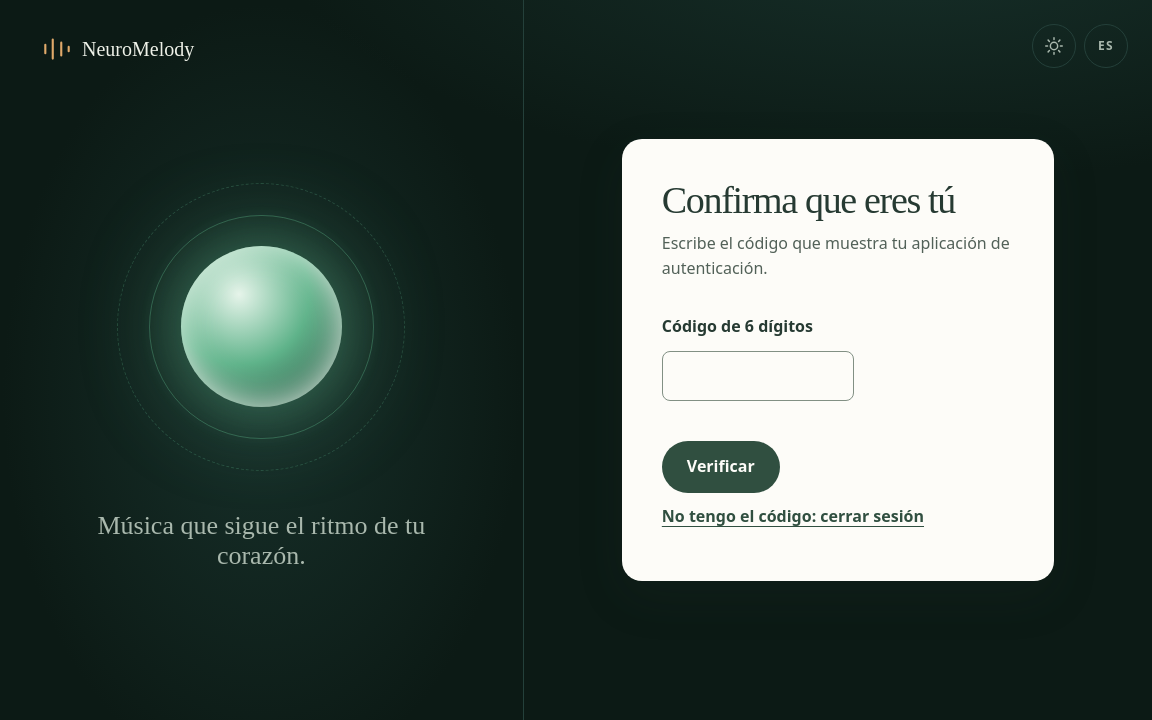
sign-in screens › asks for the code when a sign-in lands straight in the app, and lets the person sign out instead
The width and height of the screenshot is (1152, 720).
Check: the heading "Confirma que eres tú" is shown, box [662, 179, 955, 221]
Step 1. Click the button "No tengo el código: cerrar sesión" → (793, 517), box [662, 493, 924, 541]
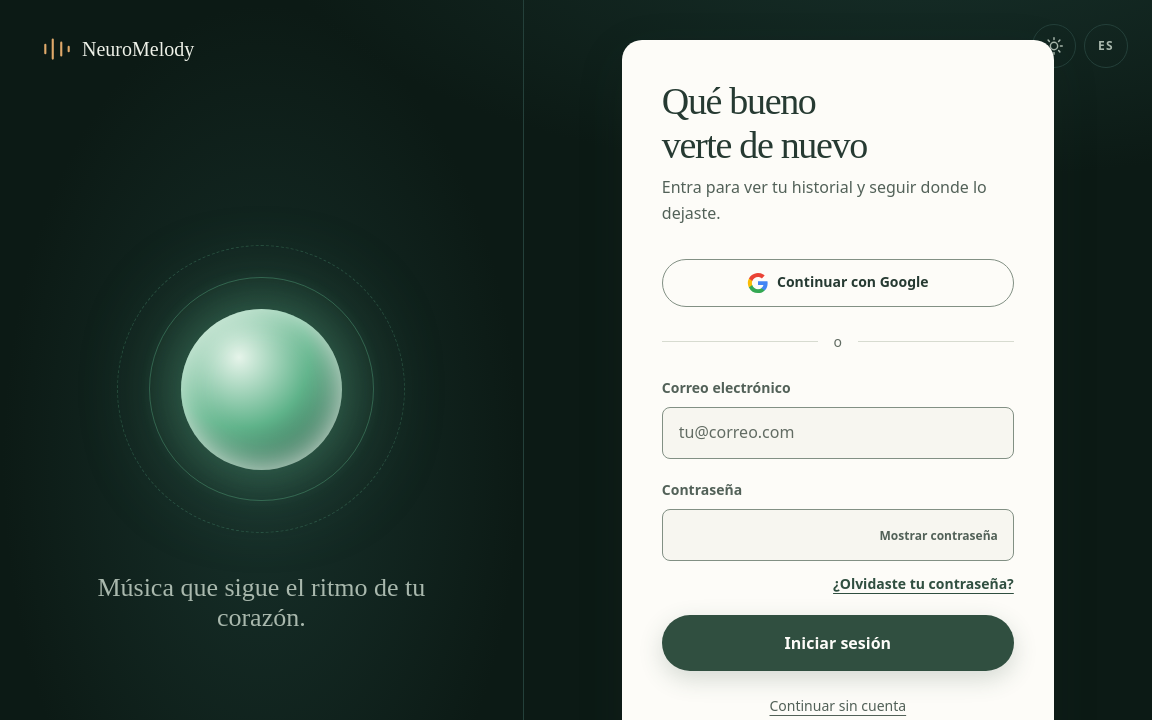
Check: the form named "Iniciar sesión" is shown, box [662, 377, 1014, 671]
